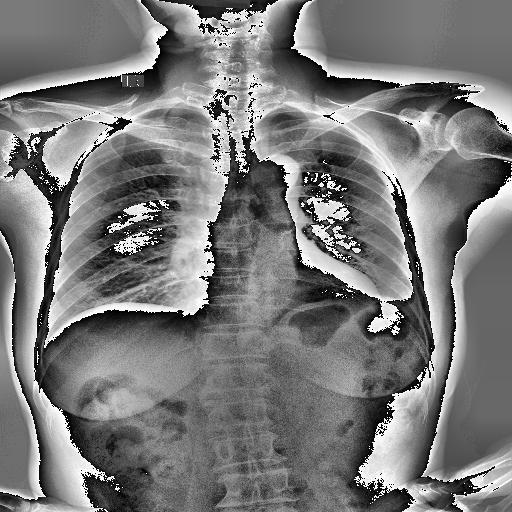0- Aortic enlargement: (253, 152, 301, 206)
10- Pleural effusion: (398, 285, 432, 337), (400, 293, 420, 311)
11- Pleural thickening: (398, 285, 432, 337), (400, 293, 420, 311)
3- Cardiomegaly: (186, 270, 377, 306)
